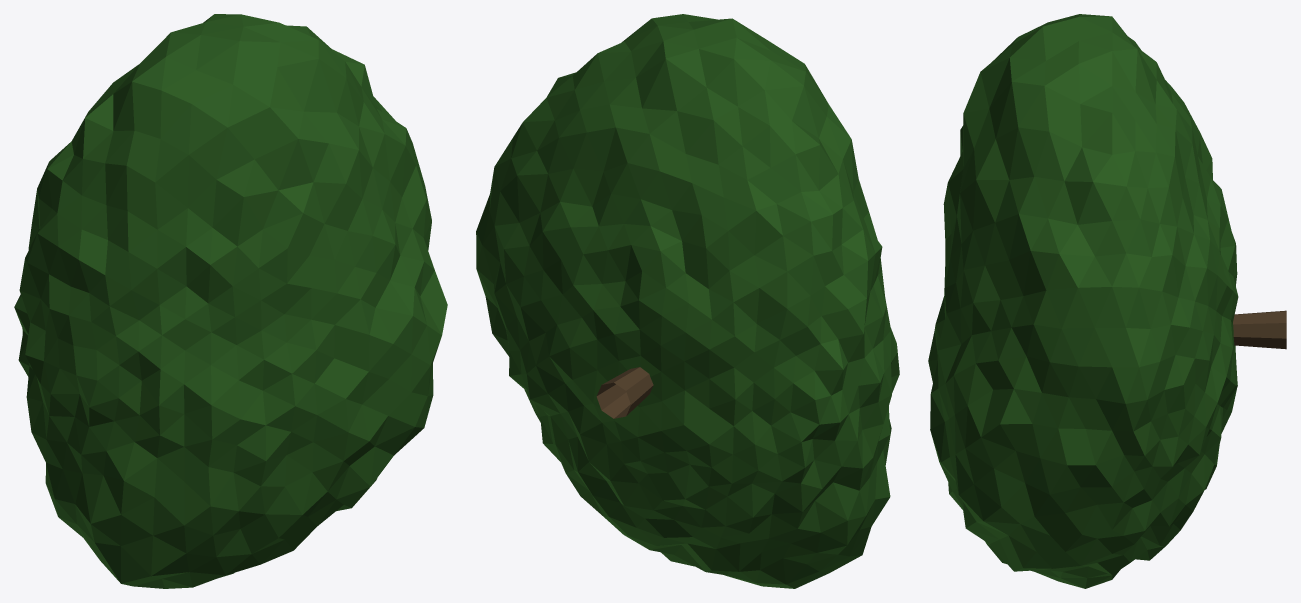
The model's file is citrus_c.obj.
3 views of the same model, side by side, from view 1: azimuth 30°, elevation 25°; view 2: azimuth 150°, elevation 25°; view 3: azimuth 270°, elevation 25° (orthographic). The views are drawn at different scales.
Parts seen in each view (by area): view 1: canopy; view 2: canopy, trunk; view 3: canopy, trunk.
Part boxes in pixels (<box>): canopy: <box>14,14,447,588</box>; canopy: <box>476,14,899,588</box>; trunk: <box>596,367,653,418</box>; canopy: <box>928,14,1238,588</box>; trunk: <box>1233,310,1286,349</box>.
Bounding box in the file's own units: 3.56 × 4.64 × 2.71.
